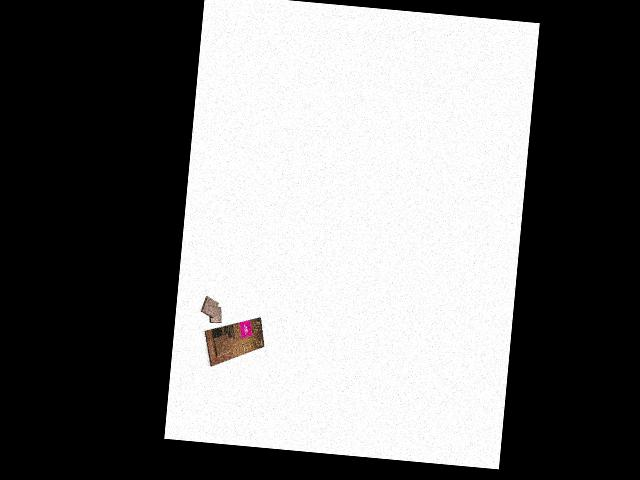chocolate: (200, 311, 267, 371)
